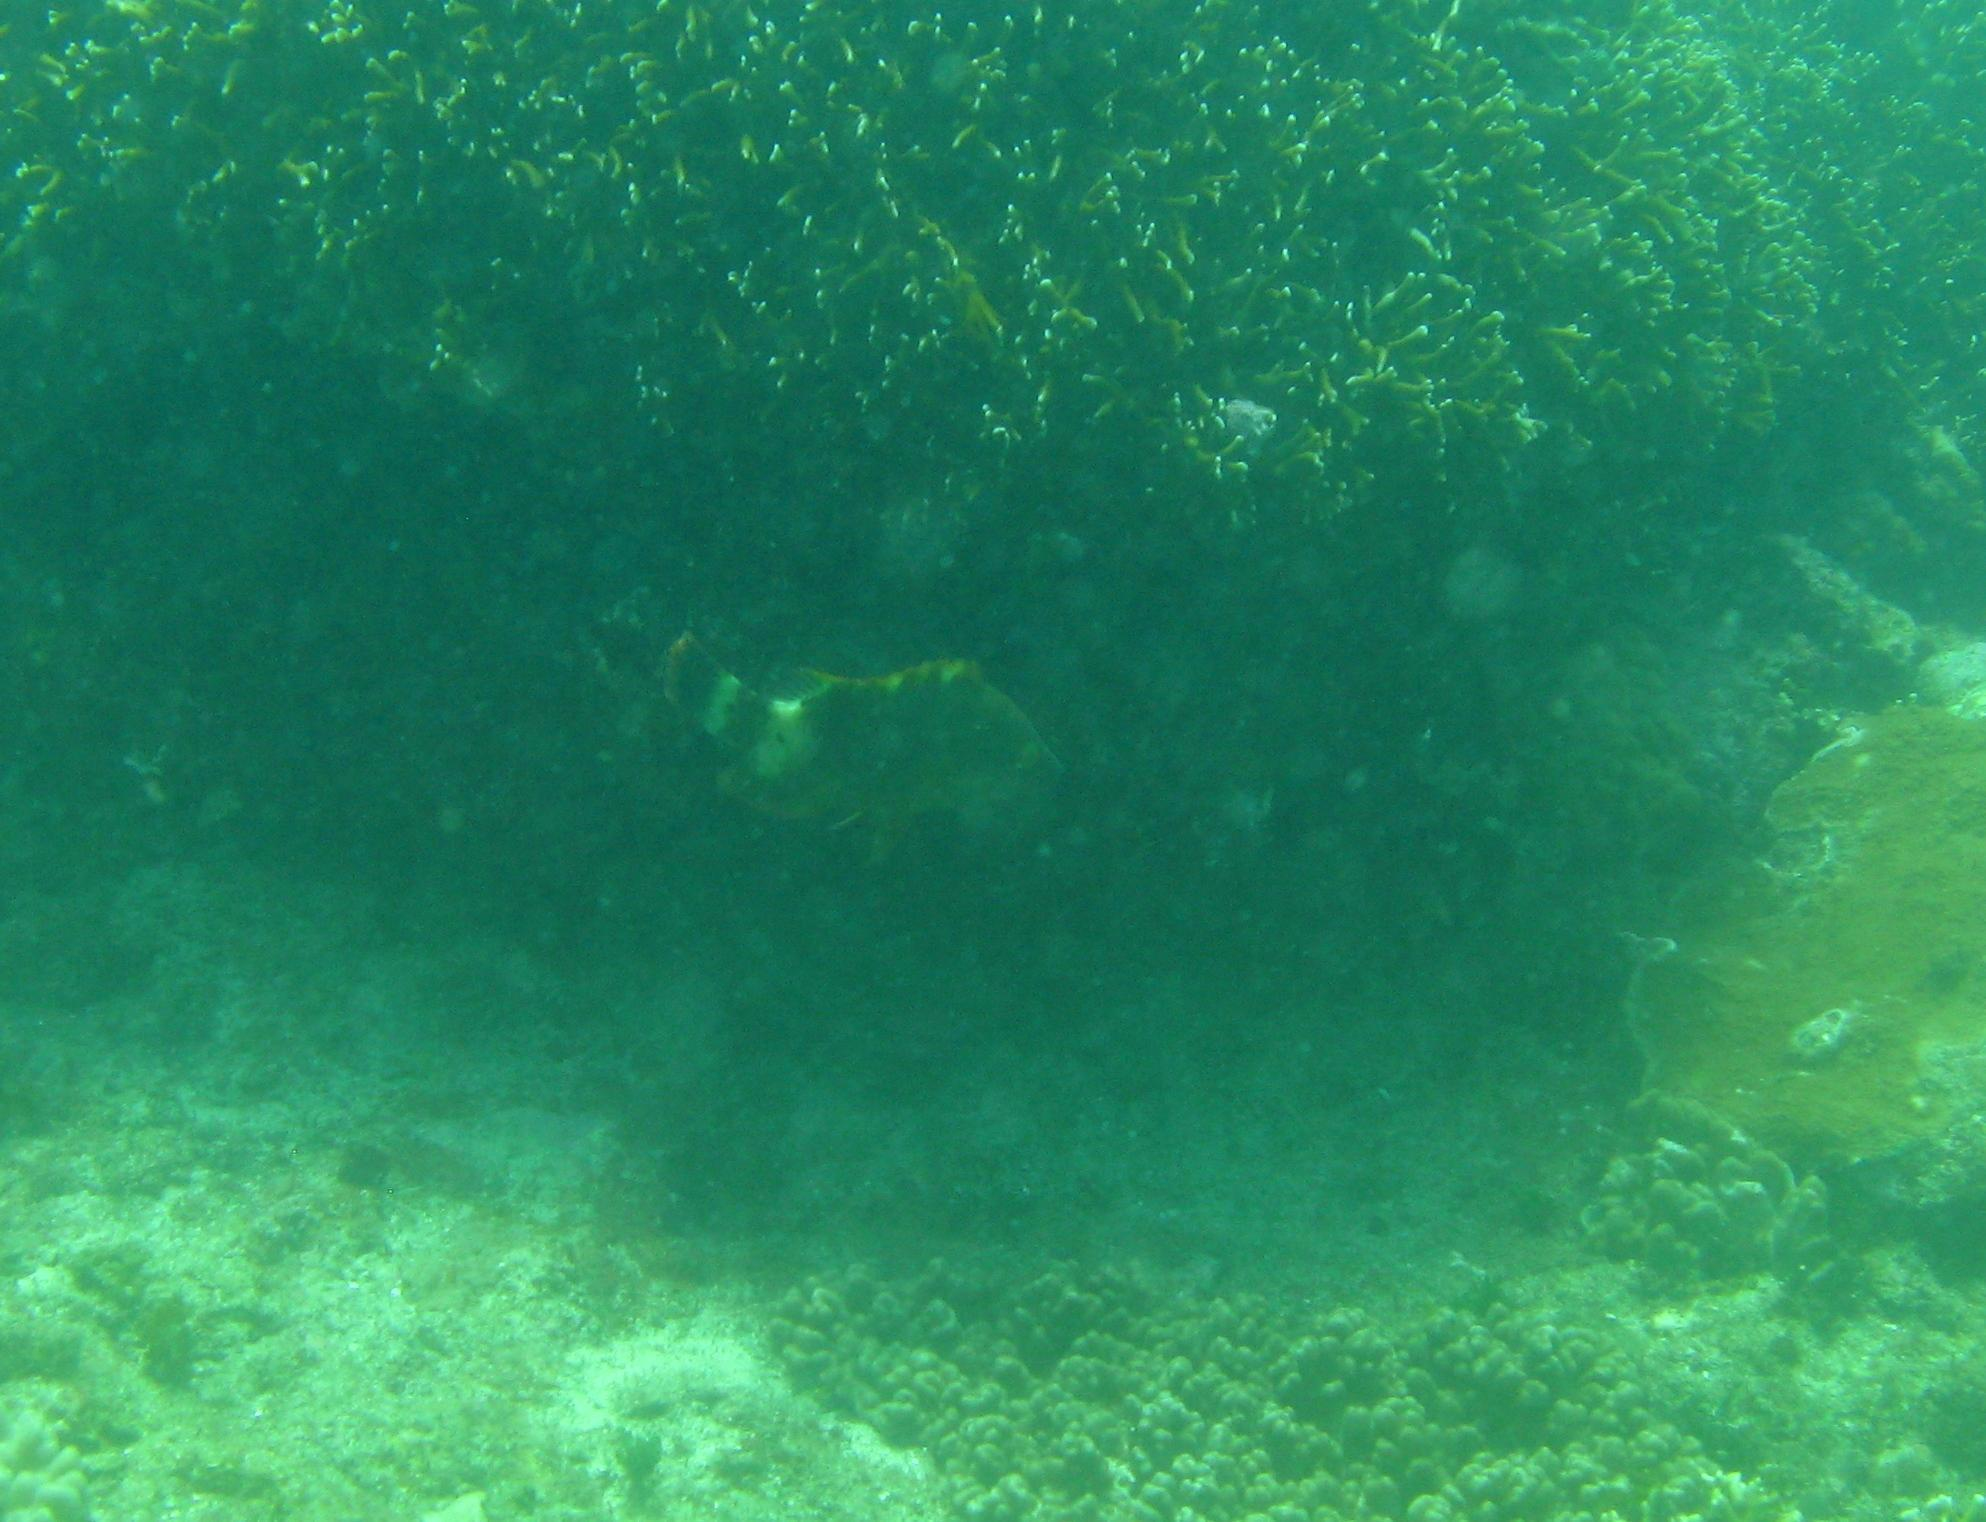Fish: (630, 603, 1091, 851)
